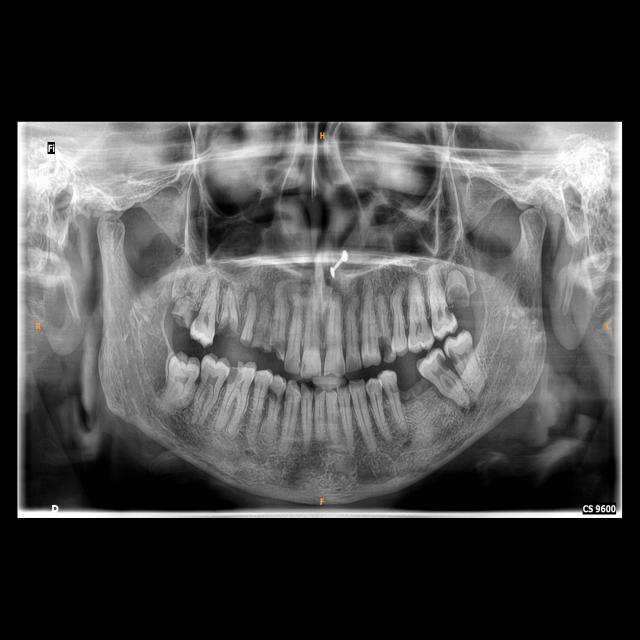dentin-curugu: (378, 330, 396, 363), (450, 280, 470, 308), (434, 349, 451, 376), (225, 362, 242, 387), (448, 344, 462, 366), (265, 385, 281, 402), (444, 304, 457, 322)
kirik: (216, 315, 241, 340), (268, 334, 288, 362), (168, 307, 191, 330), (252, 338, 272, 358), (240, 327, 252, 349)
kok-enfeksiyonu: (458, 385, 480, 417)
